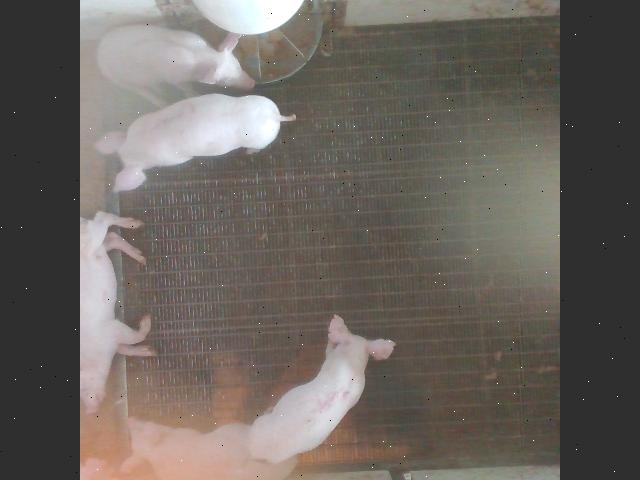pig-3: (96, 92, 296, 190)
pig-4: (122, 416, 298, 480)
pig-5: (249, 314, 395, 462)
